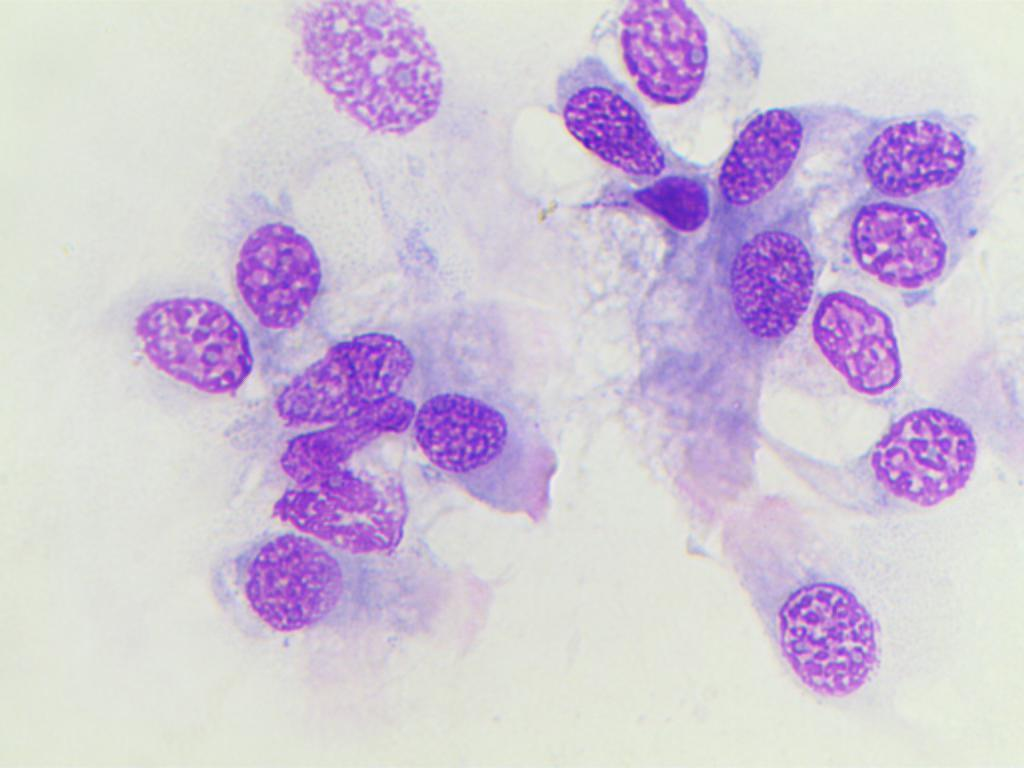epithelial: (216, 536, 491, 641), (284, 4, 449, 136), (100, 284, 260, 415), (415, 381, 551, 497), (764, 579, 889, 705), (235, 180, 331, 338), (842, 97, 986, 198), (275, 334, 417, 427), (282, 393, 418, 489), (837, 198, 986, 283), (279, 471, 414, 559), (872, 402, 976, 512), (728, 227, 819, 351), (811, 289, 907, 401), (557, 88, 672, 179), (714, 101, 808, 210), (611, 6, 717, 99)
